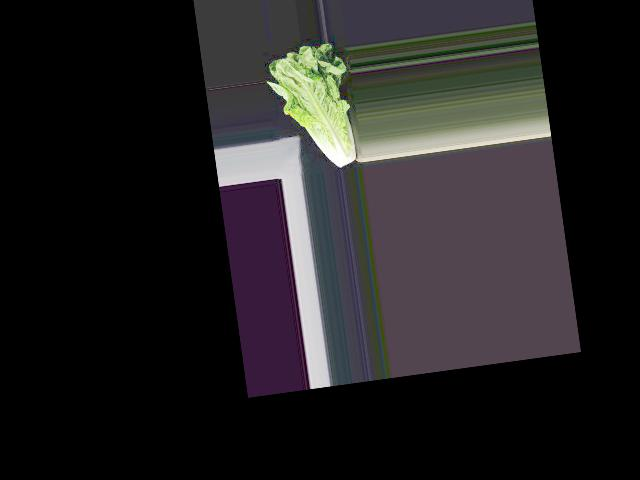lettuce: (268, 45, 354, 173)
